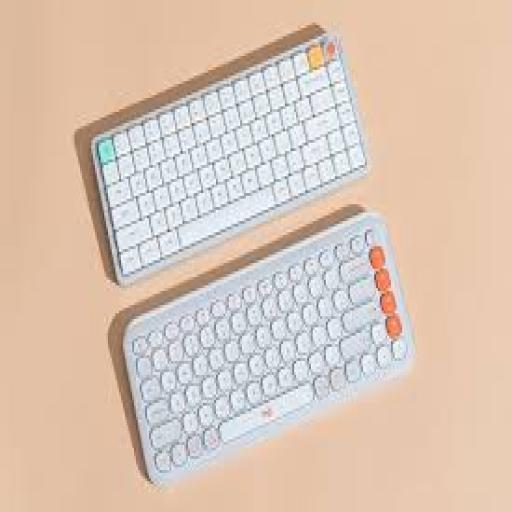KEYBOARD-2: (125, 213, 413, 484), (93, 34, 365, 283)
